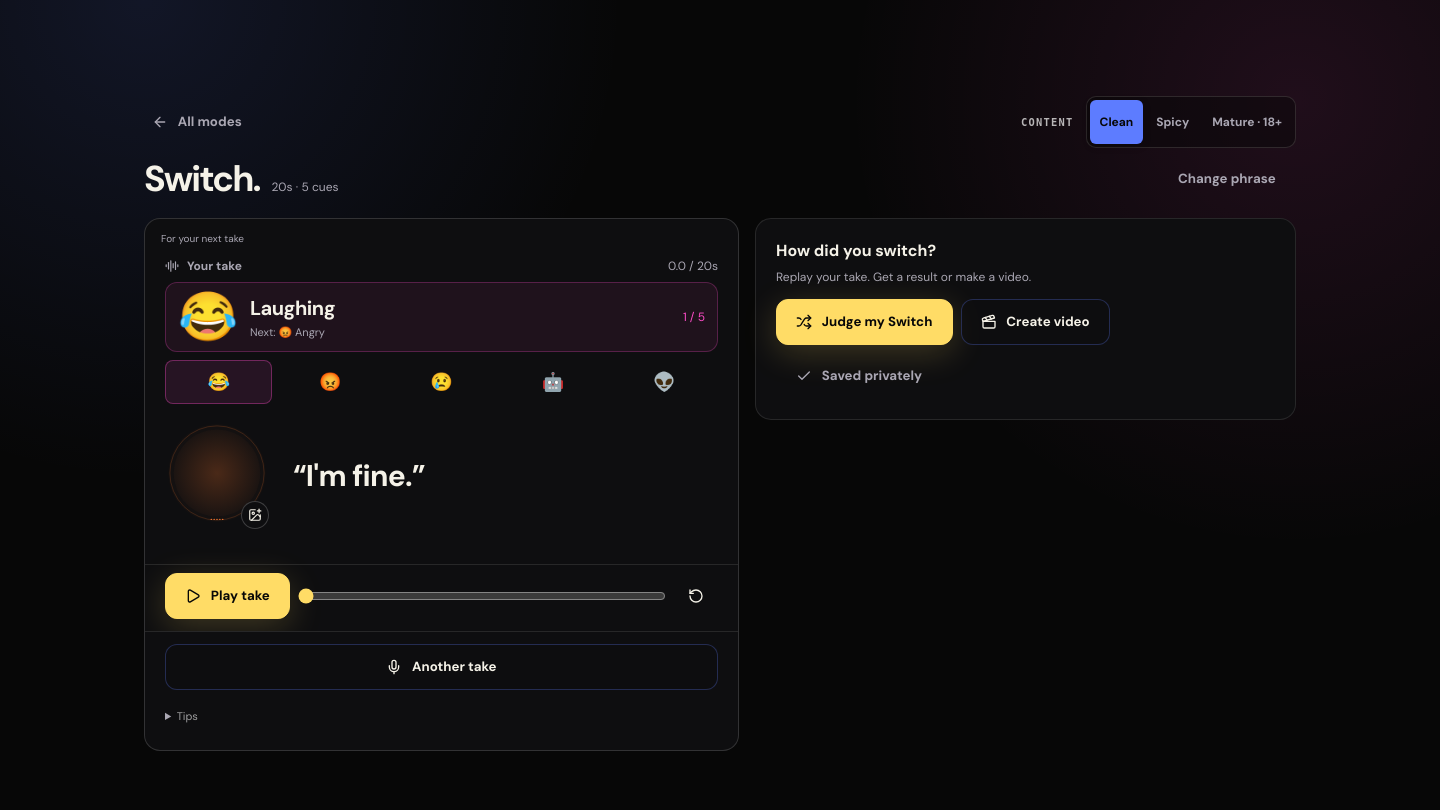
Test: Switch take recovery and immutable playback › keeps a saved take available after a cancelled full-take retry
Click the button with aria-label "Retry full take": point(442, 667) [165,644,718,690]
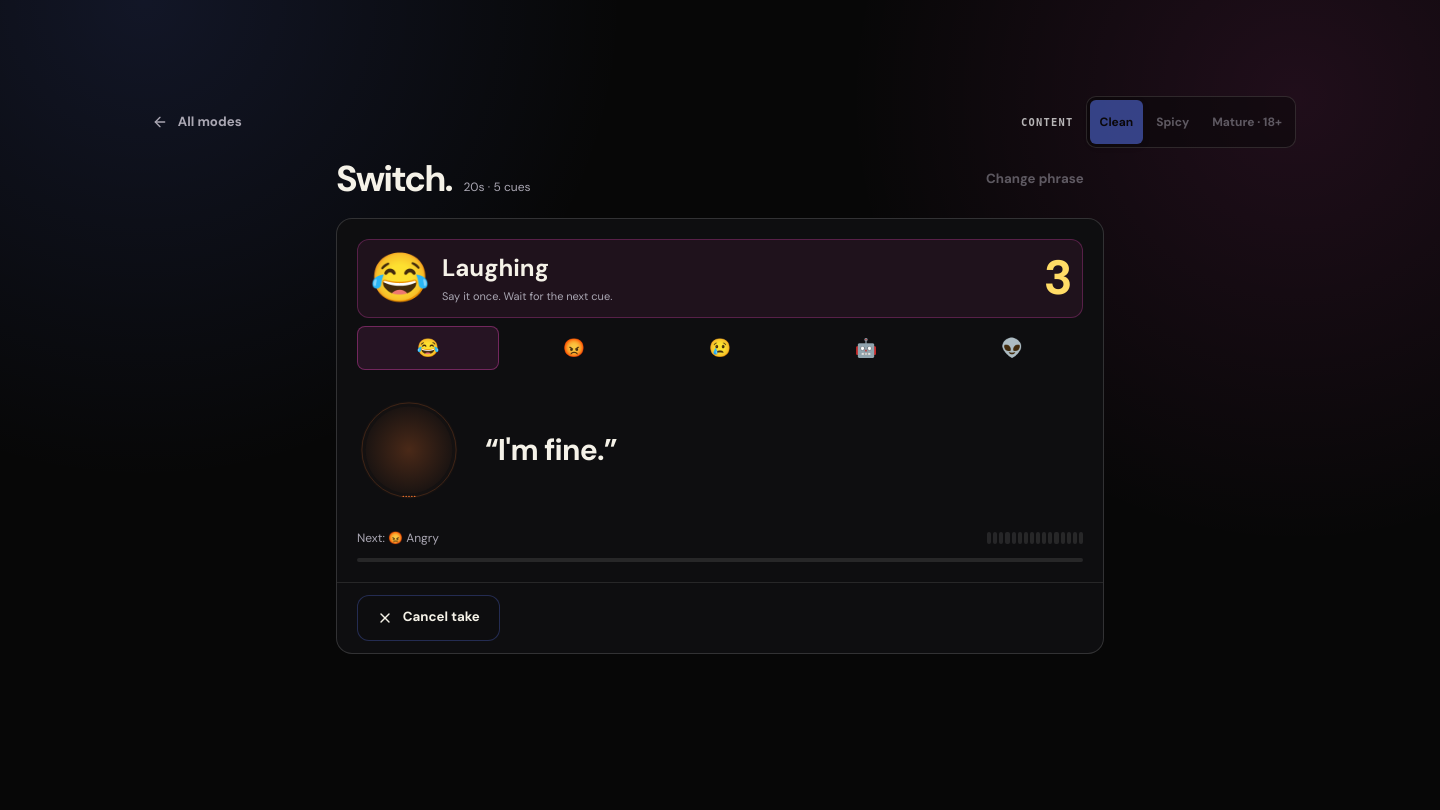
Click the button "Cancel take": point(428, 618) [357,594,500,640]
Wait 3000 ms
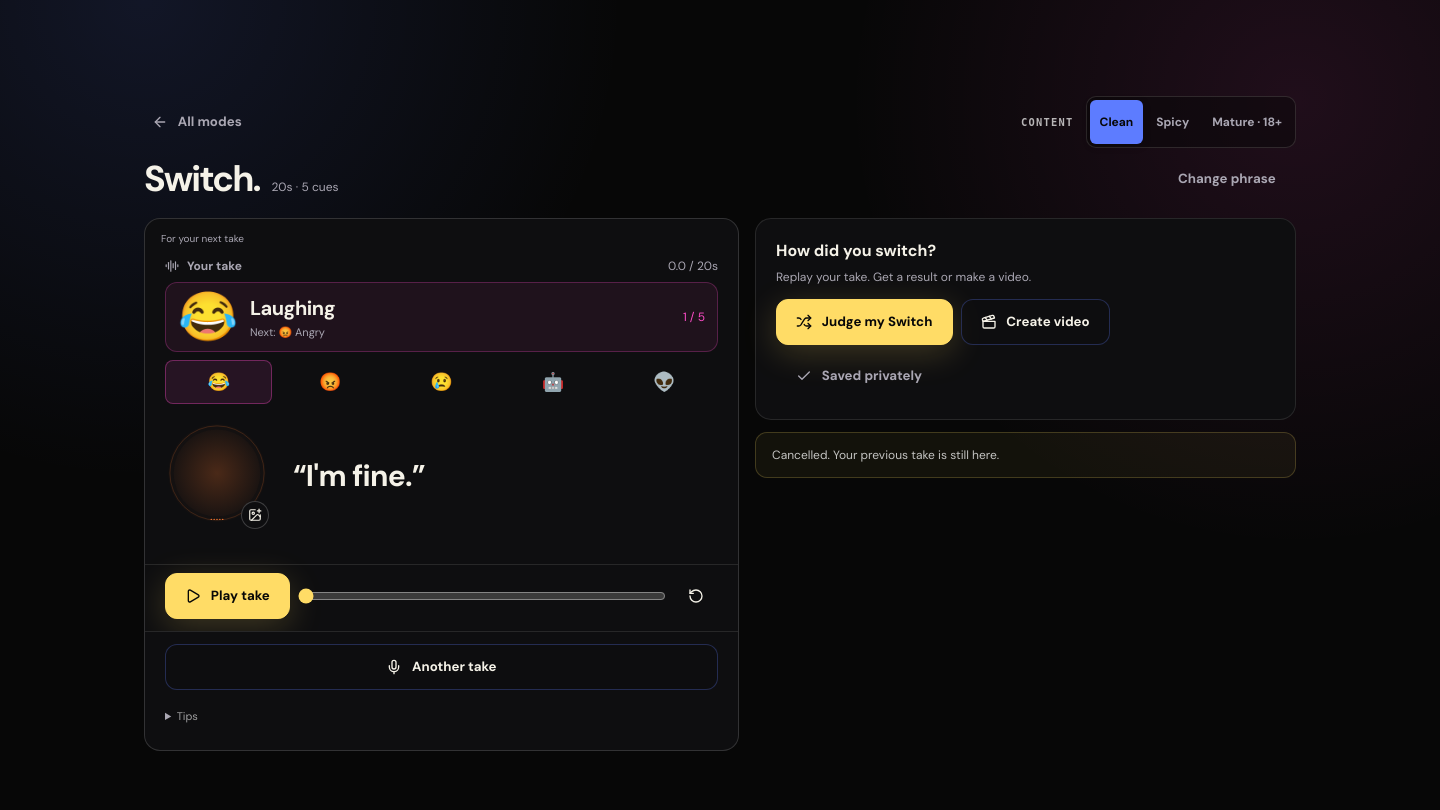
Expected: the button "Judge my Switch" is enabled, [776,299,952,345]
Click the button "Saved privately": point(859, 376) [776,353,942,399]
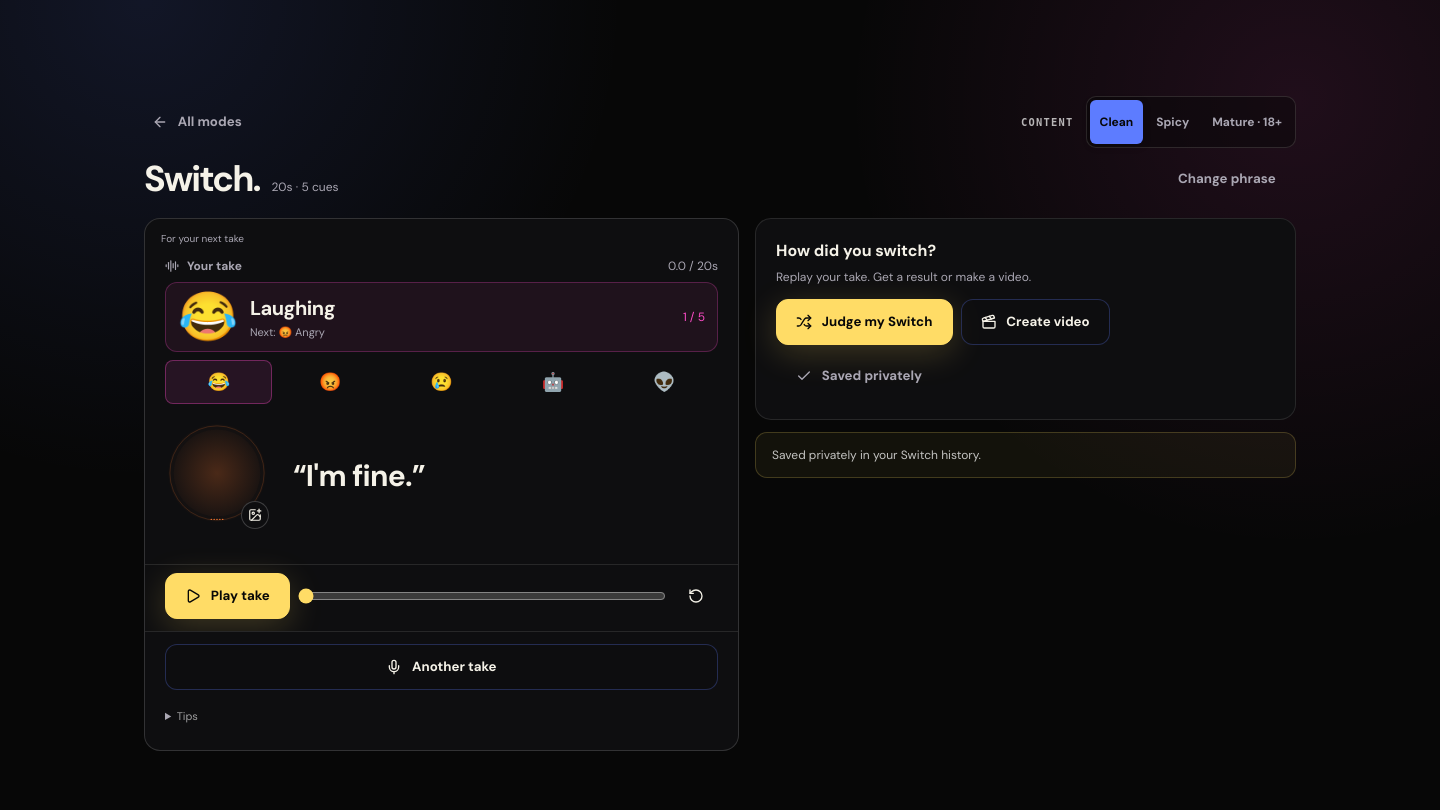
Expected: the message shows "Saved privately", [772,447,981,463]
